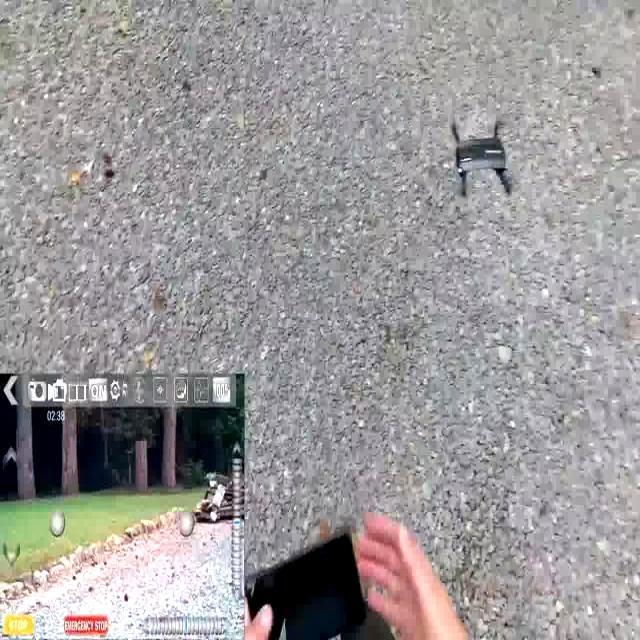drone: (440, 104, 522, 204)
